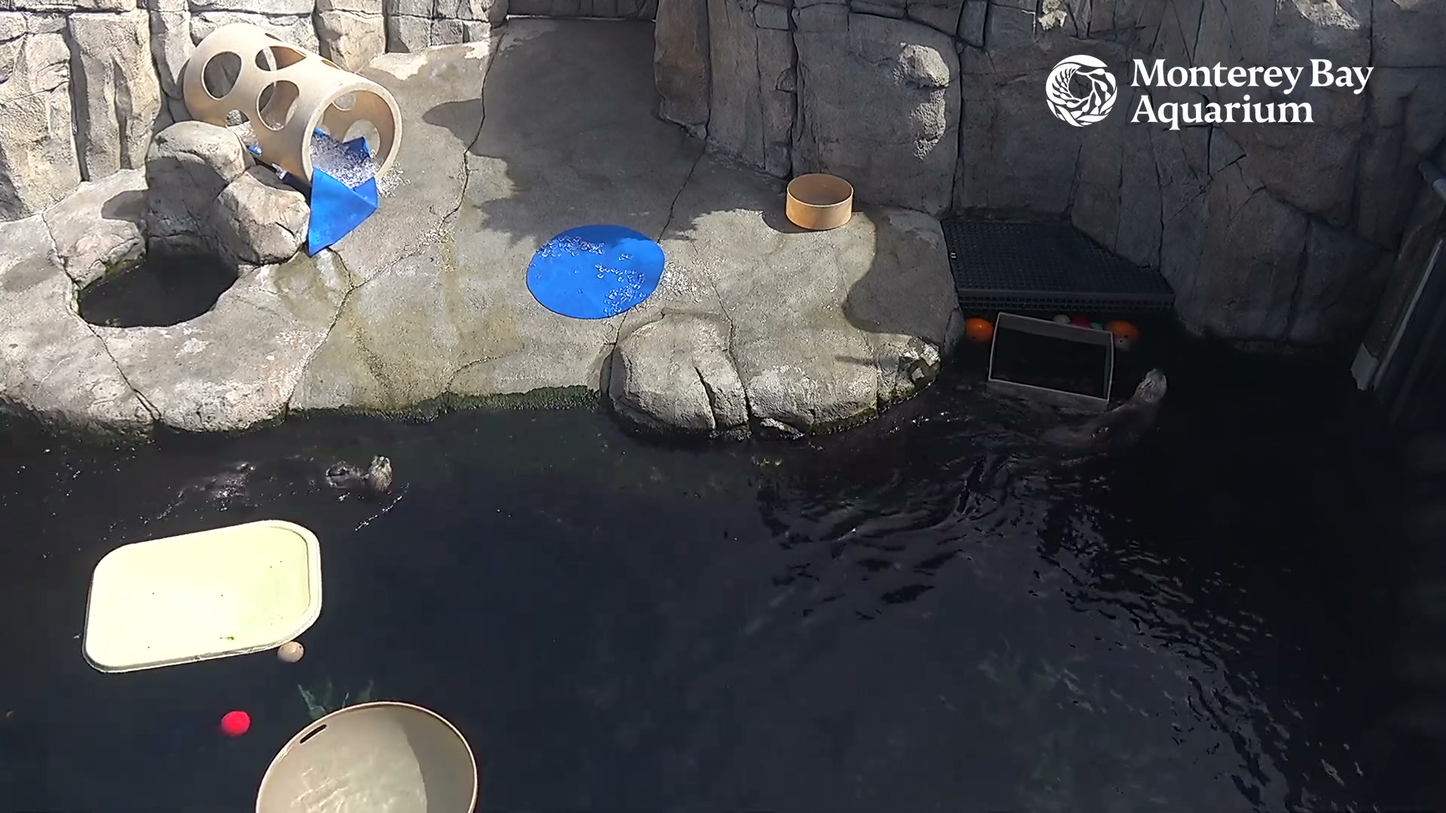Southern Sea Otter: (150, 428, 402, 532), (1045, 352, 1176, 482)
